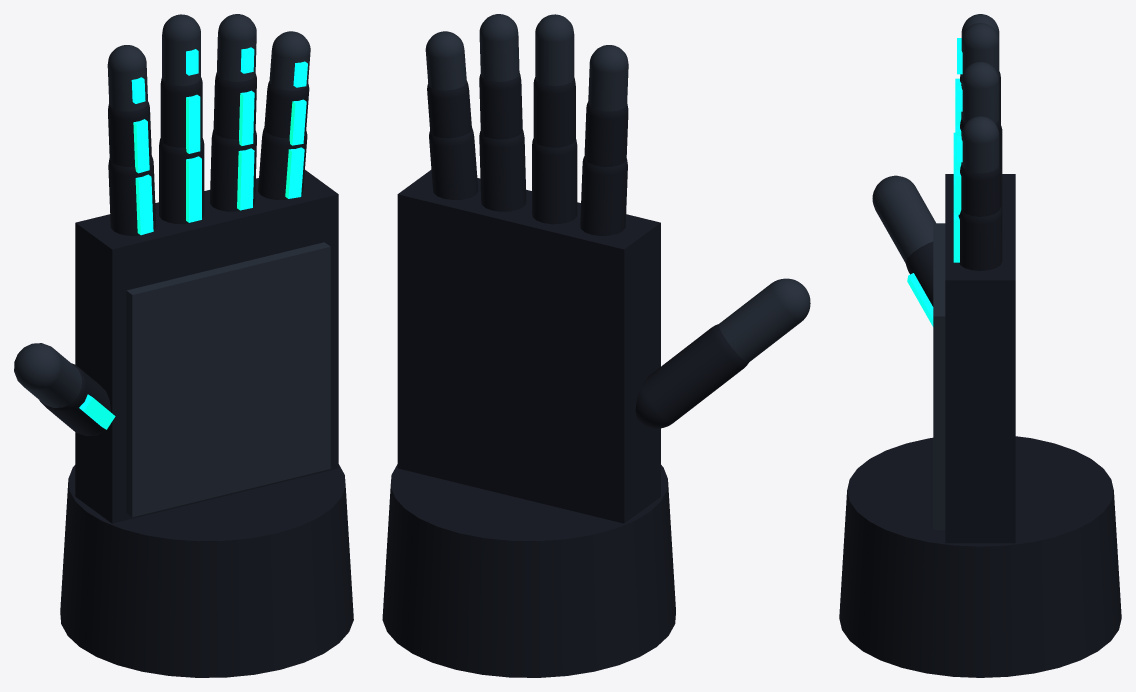
Rendered from glove.glb.
3 renders of one model, left to right at view 1: azimuth 30°, elevation 25°; view 2: azimuth 150°, elevation 25°; view 3: azimuth 270°, elevation 25°, orthographic. The views are drawn at different scales.
Visible parts, largest first — view 1: WristCuff, DorsalPlate, PalmChassis, Finger_Middle, Finger_Ring, Finger_Index, Finger_Pinky, Finger_Thumb; view 2: PalmChassis, WristCuff, Finger_Thumb, Finger_Middle, Finger_Ring, Finger_Index, Finger_Pinky; view 3: WristCuff, PalmChassis, Finger_Pinky, Finger_Thumb, DorsalPlate, Finger_Ring, Finger_Middle, Finger_Index.
Part boxes in pixels (left/top/right/bottom): WristCuff: left=60, top=464, right=353, bottom=677; DorsalPlate: left=126, top=242, right=330, bottom=517; PalmChassis: left=75, top=170, right=338, bottom=523; Finger_Middle: left=159, top=14, right=204, bottom=224; Finger_Ring: left=210, top=14, right=256, bottom=211; Finger_Index: left=107, top=45, right=155, bottom=235; Finger_Pinky: left=258, top=31, right=310, bottom=199; Finger_Thumb: left=14, top=343, right=115, bottom=435; PalmChassis: left=397, top=170, right=660, bottom=523; WristCuff: left=382, top=464, right=675, bottom=677; Finger_Thumb: left=635, top=278, right=810, bottom=428; Finger_Middle: left=532, top=14, right=577, bottom=224; Finger_Ring: left=479, top=14, right=526, bottom=211; Finger_Index: left=580, top=45, right=628, bottom=235; Finger_Pinky: left=425, top=31, right=478, bottom=199; WristCuff: left=839, top=436, right=1121, bottom=677; PalmChassis: left=945, top=174, right=1015, bottom=543; Finger_Pinky: left=953, top=116, right=1002, bottom=270; Finger_Thumb: left=872, top=175, right=935, bottom=326; DorsalPlate: left=933, top=223, right=945, bottom=529; Finger_Ring: left=953, top=61, right=1002, bottom=212; Finger_Middle: left=953, top=23, right=1002, bottom=178; Finger_Index: left=953, top=14, right=1002, bottom=149.
Size of the model in its own units: 2.55 by 4.09 by 1.8.
